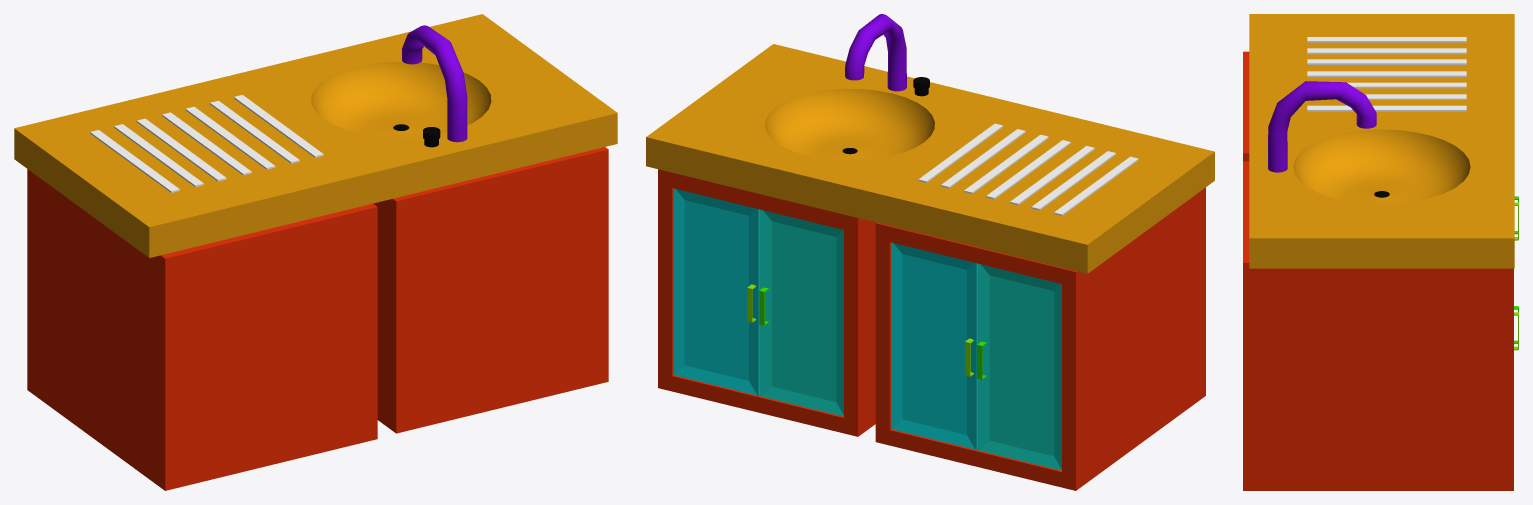
File: Sink.fbx
3 views of the same model, side by side, from view 1: azimuth 30°, elevation 25°; view 2: azimuth 150°, elevation 25°; view 3: azimuth 270°, elevation 25° (orthographic). The views are drawn at different scales.
Parts seen in each view (by area): view 1: Cube.052, Cube.031, Cube.049; view 2: Cube.031, Cube.052, Cube.051, Cube.054, Cube.049, Cube.050, Cube.053; view 3: Cube.031, Cube.049, Cube.052.
Part boxes in pixels (x1,y1,x2,y2): Cube.052: (27, 169, 377, 490); Cube.031: (14, 14, 617, 257); Cube.049: (373, 147, 608, 433); Cube.031: (646, 14, 1214, 273); Cube.052: (875, 187, 1205, 490); Cube.051: (673, 188, 759, 395); Cube.054: (891, 242, 977, 449); Cube.049: (658, 169, 876, 436); Cube.050: (759, 209, 843, 416); Cube.053: (977, 263, 1061, 470); Cube.031: (1249, 14, 1514, 268); Cube.049: (1243, 161, 1513, 490); Cube.052: (1243, 51, 1249, 161).
Bounding box in the file's own units: 40 × 28.76 × 20.78.
